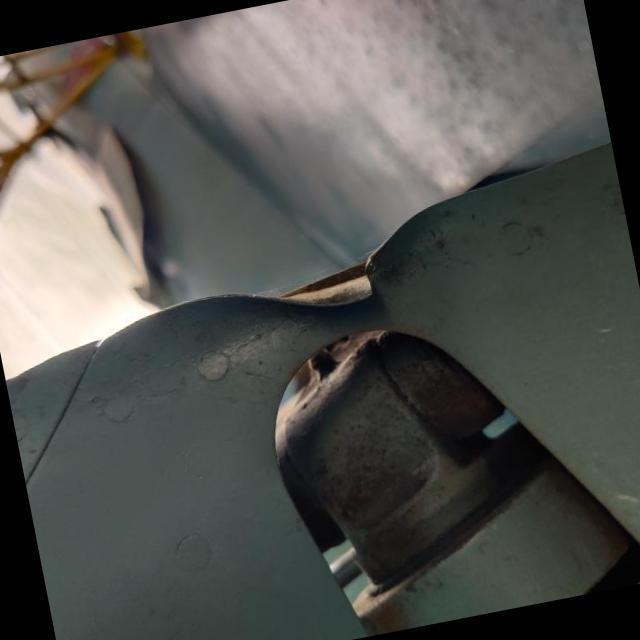Rupture: (324, 236, 406, 312)
